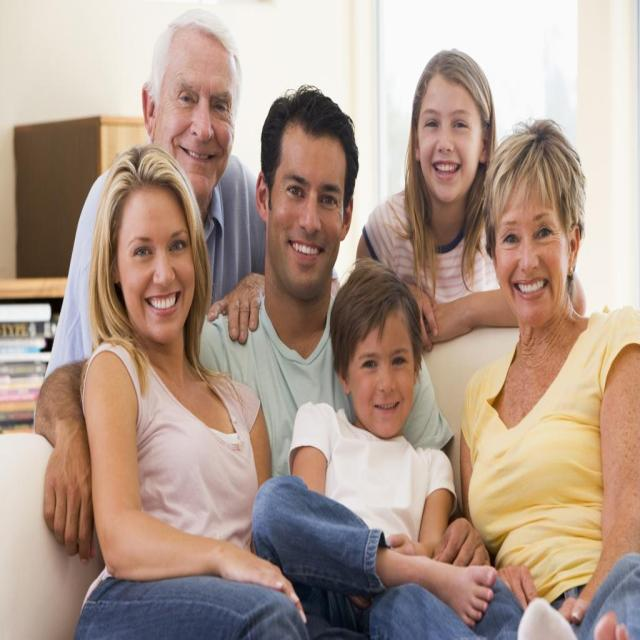Face: (485, 147, 595, 336), (144, 15, 242, 206), (112, 180, 213, 364), (262, 102, 355, 298), (335, 264, 428, 439), (415, 44, 487, 210)
